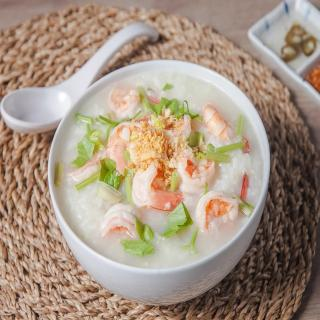boiled_rice: (52, 67, 269, 273)
carbs: (57, 193, 101, 251), (145, 215, 195, 264), (158, 69, 225, 103)
meat: (132, 154, 182, 213), (202, 104, 252, 156), (104, 120, 148, 175), (194, 189, 249, 233), (172, 144, 218, 194), (98, 200, 143, 243), (107, 85, 156, 119)
veg: (155, 87, 199, 127), (75, 114, 108, 160), (102, 161, 122, 197)
